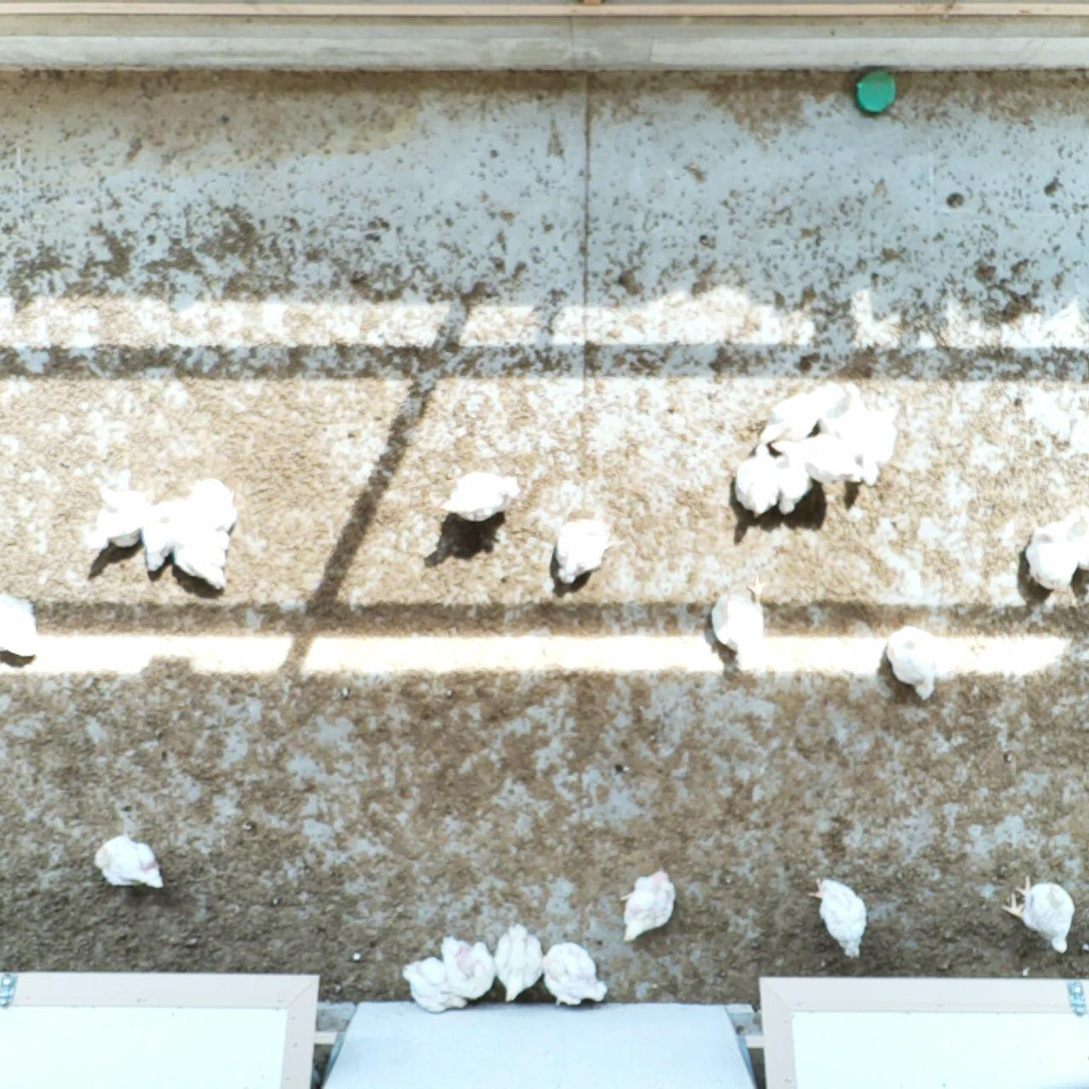chicken: (167, 506, 234, 591), (809, 873, 874, 959), (766, 431, 863, 486), (535, 937, 610, 1008), (884, 622, 947, 705), (1007, 873, 1071, 953), (852, 400, 906, 492), (618, 864, 680, 944), (754, 387, 843, 442), (91, 476, 154, 552), (730, 437, 784, 525), (551, 513, 611, 591), (92, 833, 168, 894), (494, 917, 547, 1004), (134, 494, 188, 579), (441, 469, 520, 526), (707, 590, 771, 658), (1023, 518, 1079, 595), (436, 929, 494, 1000), (400, 954, 469, 1013), (0, 588, 47, 664), (834, 376, 877, 459), (769, 448, 813, 521), (187, 473, 236, 531), (1053, 504, 1089, 570)
